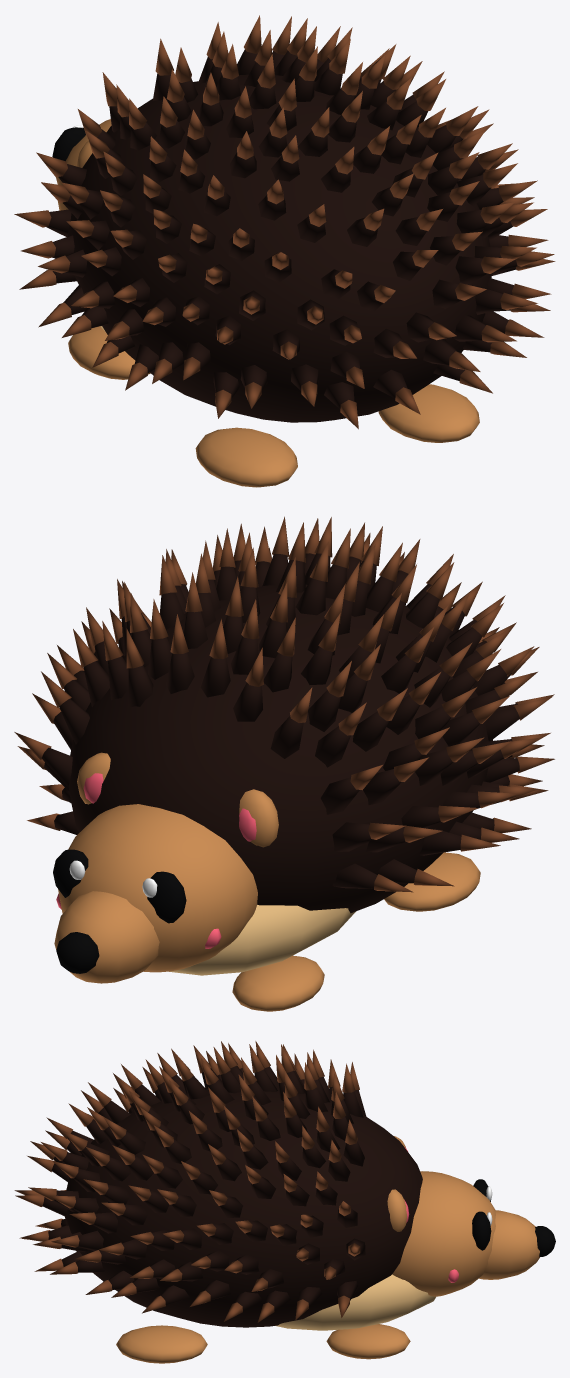
The model's file is Hedgehog.obj.
3 views of the same model, one above another, from view 1: azimuth 30°, elevation 25°; view 2: azimuth 150°, elevation 25°; view 3: azimuth 270°, elevation 25° (orthographic). The views are drawn at different scales.
Parts seen in each view (by area): view 1: Hedgehog; view 2: Hedgehog; view 3: Hedgehog.
Boxes of the visible parts, left/top/right/bottom form: Hedgehog: left=14, top=15, right=555, bottom=487; Hedgehog: left=14, top=516, right=554, bottom=1011; Hedgehog: left=14, top=1041, right=555, bottom=1363.
Bounding box in the file's own units: 4.92 × 3.8 × 7.08.
